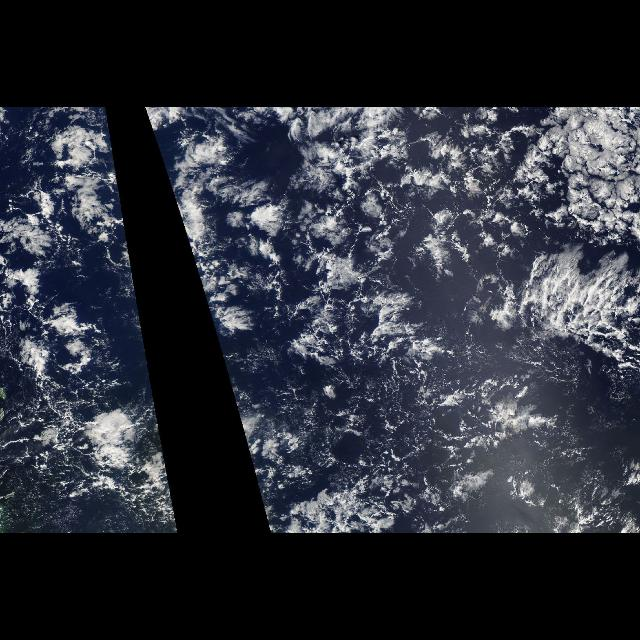Fish: (12, 379, 165, 526), (512, 242, 640, 384)
Flower: (167, 113, 638, 533), (168, 471, 180, 533)
Gravel: (147, 115, 579, 533), (0, 109, 180, 531)
